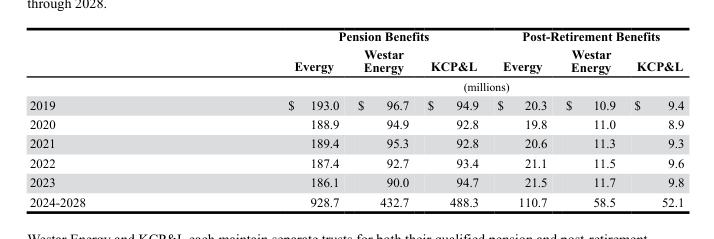table: (28, 28, 683, 208)
table column: (186, 28, 347, 208), (28, 28, 186, 208), (347, 28, 417, 208), (417, 28, 487, 208), (555, 28, 624, 208), (487, 28, 555, 208), (624, 28, 683, 208)
table column header: (28, 28, 683, 94)
table row: (28, 44, 683, 76), (28, 113, 683, 133), (28, 152, 683, 172), (28, 94, 683, 113), (28, 133, 683, 152), (28, 172, 683, 191), (28, 76, 683, 94), (28, 191, 683, 208), (28, 28, 683, 44)
table spanning cell: (186, 76, 683, 94), (186, 28, 487, 44), (487, 28, 683, 44)
